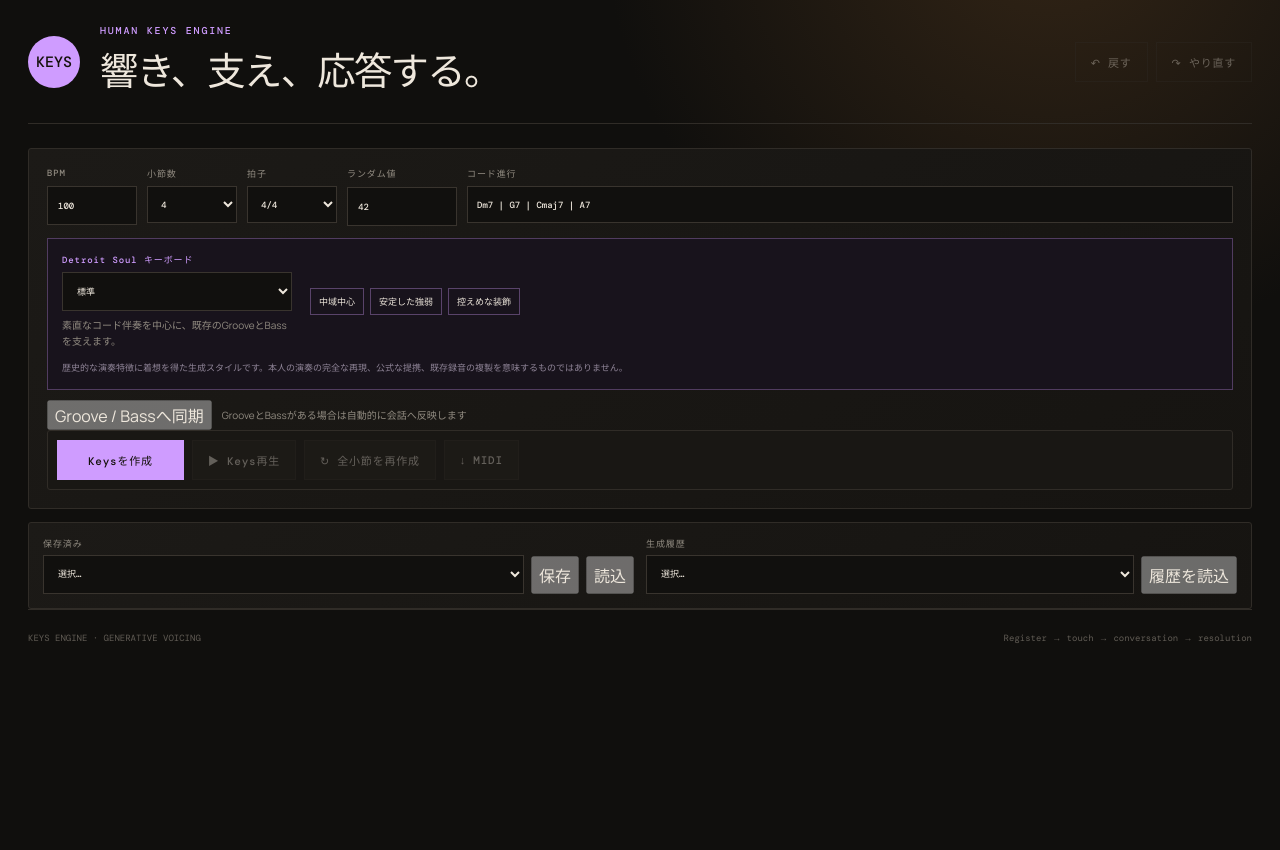
it: generates the selected keyboardist style in the detailed Keys workspace
Step 1. Select "Joe Hunter inspired" in the dropdown labelled "Detroit Soul キーボード" → (177, 292), box 62,272 -> 292,311
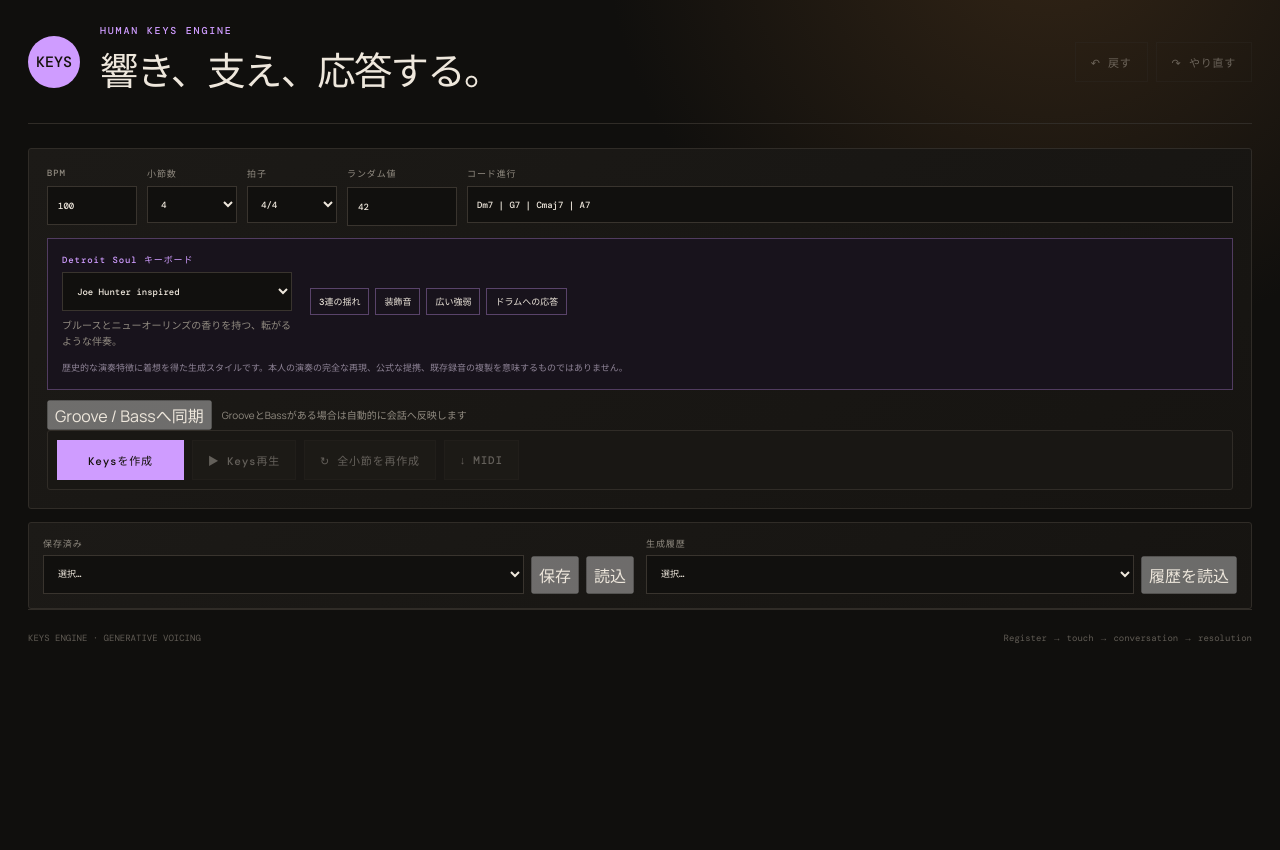
Step 2. Click the button "Keysを作成" → (120, 460), box 57,440 -> 184,480
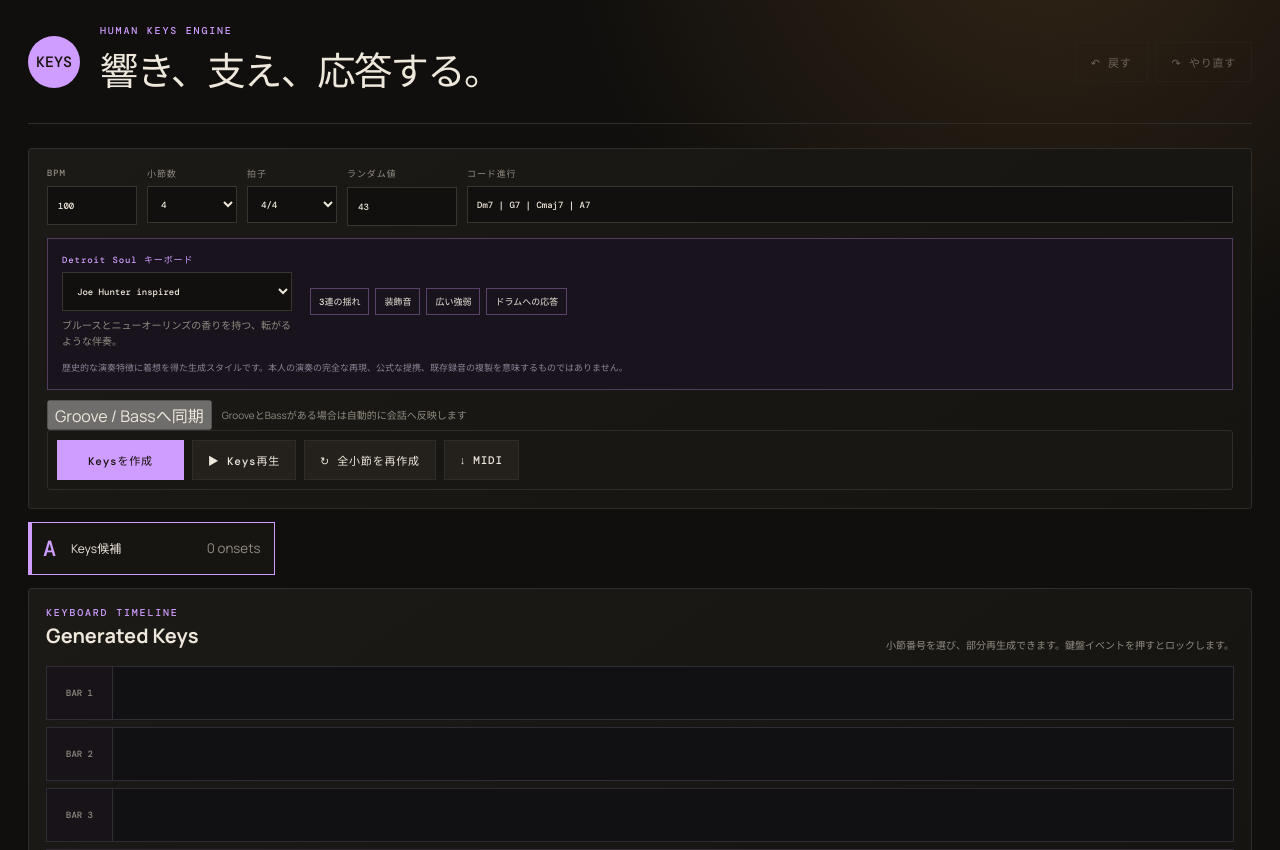
expect the heading "Generated Keys" is shown: met, box 46,622 -> 198,648
